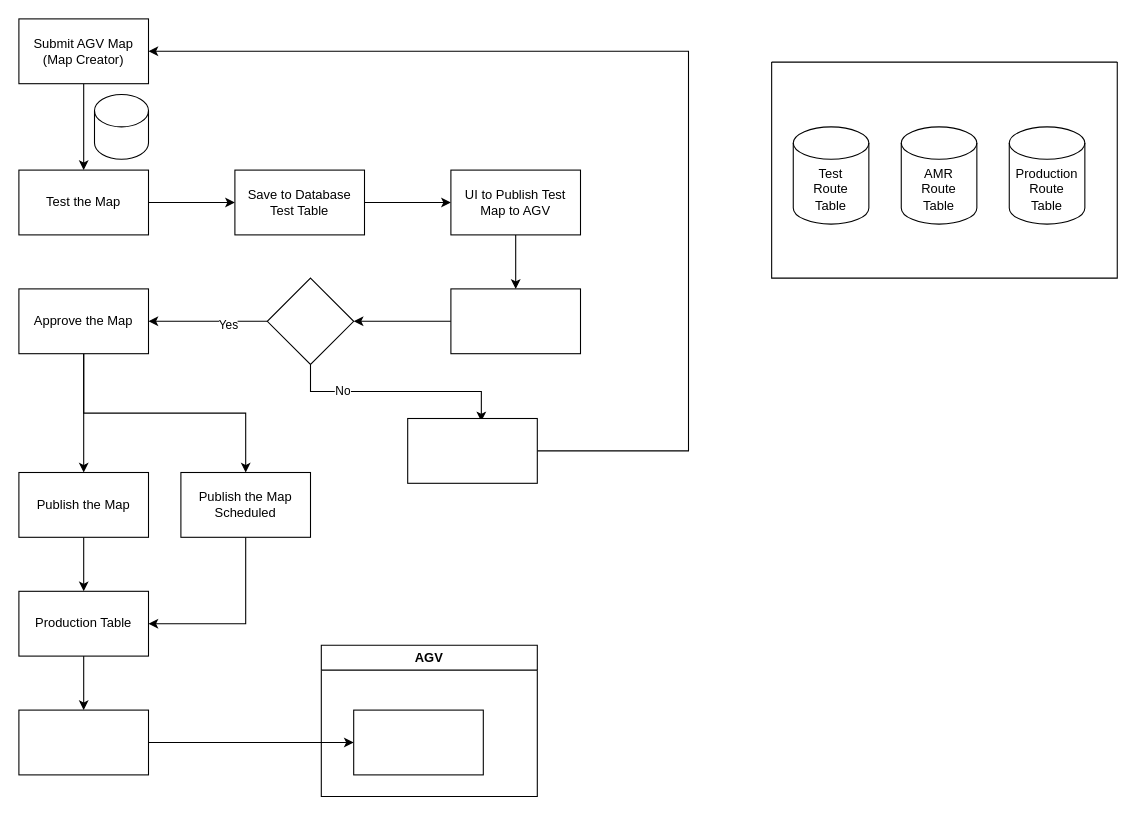
The diagram is 1136 pixels wide and 815 high, and some of its shapes have lost their labels. The box of each missing label's shape, as (x1, y1, x2, y2) in pixels:
Notify Fleet Control of New Map Change: (18, 709, 148, 775)
Onboard PLC: (353, 709, 483, 775)
Pass: (266, 277, 354, 364)
Revert to Prior Map: (407, 417, 537, 483)
Run Test case / New Map Run: (450, 288, 580, 354)
Tool: (93, 93, 148, 159)
